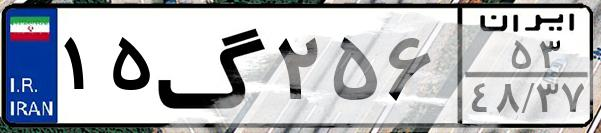1: (57, 26, 110, 100)
2: (270, 28, 330, 110)
3: (537, 27, 568, 80), (535, 70, 560, 125)
4: (470, 70, 495, 125)
5: (330, 28, 385, 110), (110, 28, 156, 98), (508, 27, 537, 80)
6: (385, 28, 445, 110)
7: (560, 70, 590, 125)
8: (495, 70, 520, 125)
گ: (156, 12, 270, 120)
